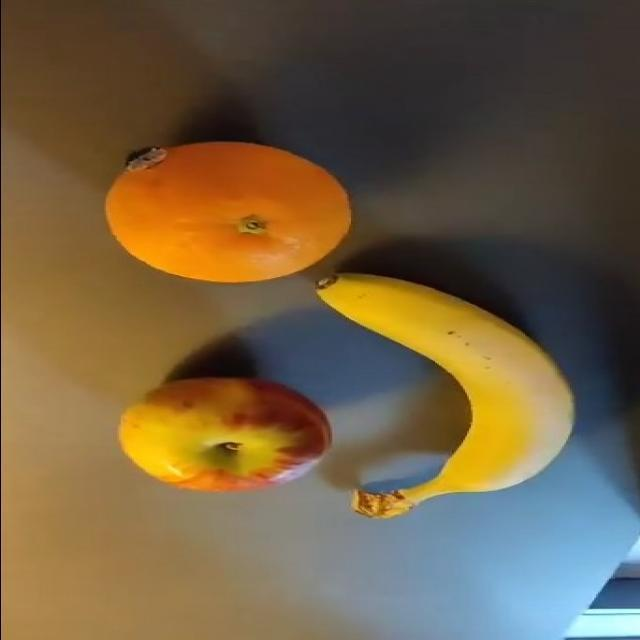Apple: (117, 375, 332, 492)
Banana: (314, 270, 575, 519)
Orange: (104, 139, 352, 284)
